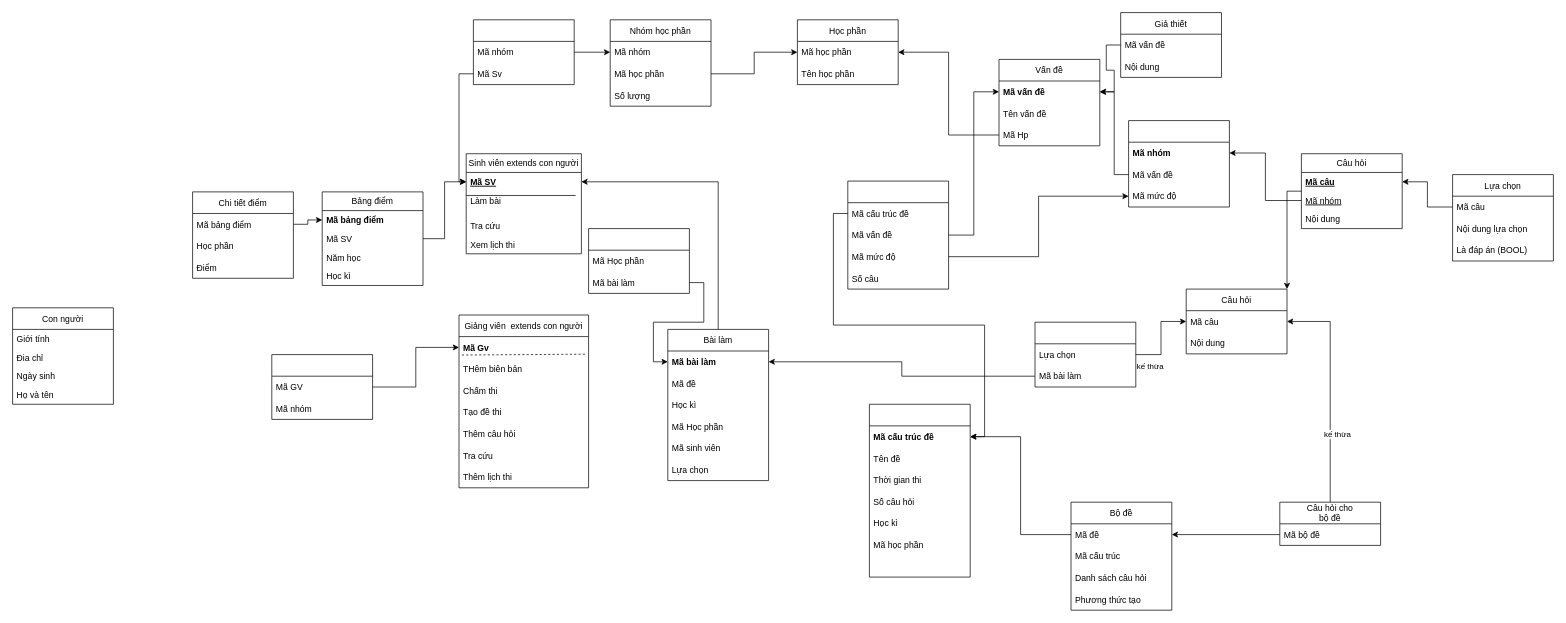
This 1566x623 diagram has some shape labels left out. The shapes that lost their labels are listed below. From the top down, each one's box as (x1, y1, x2, y2) in pixels, then its label:
(473, 19, 574, 85): Chi tiết nhóm
(1128, 120, 1229, 207): Nhóm câu hỏi
(847, 180, 949, 289): Chi tiết đề thi
(588, 228, 689, 293): Danh sách bài thi
(1034, 321, 1136, 387): Câu hỏi cho bài làm
(271, 354, 373, 419): Phân công
(869, 404, 970, 577): Cấu trúc đề thi
